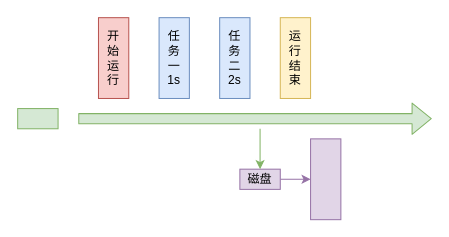
The diagram is 449 pixels wide and 237 high, and some of its shapes have lost their labels. Here are the shapes that lost their labels. From the top down, the centre of each, then its label:
At point (37, 118): "单线程".
At point (325, 179): "任 务 三 5s".
